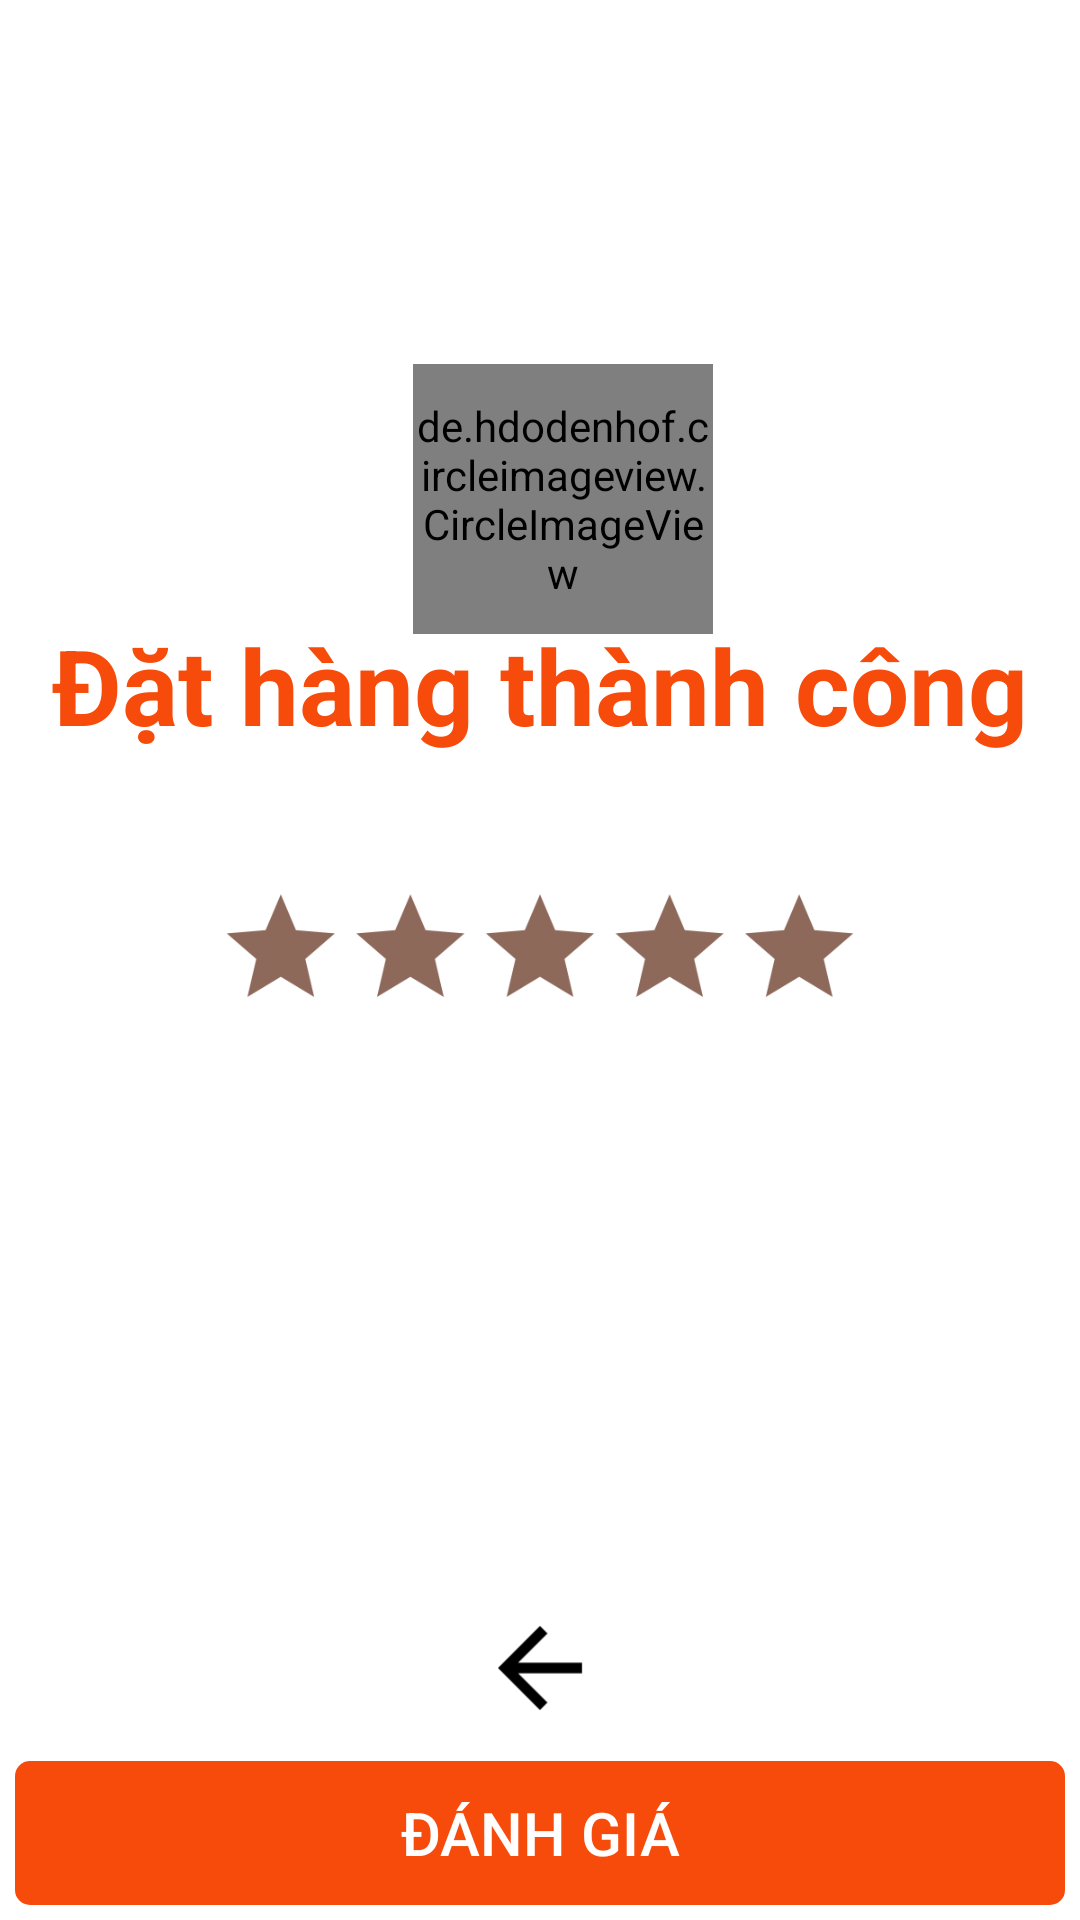

Icons on this 1080x1920 Android screen, each with the point to tap as point (x, y):
back: point (540, 1668)
